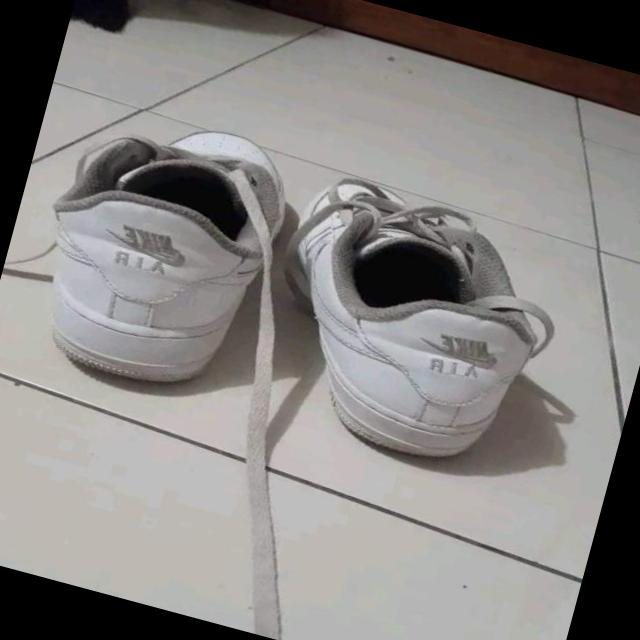nike_original_airforce: (244, 166, 576, 484), (0, 108, 304, 408)
